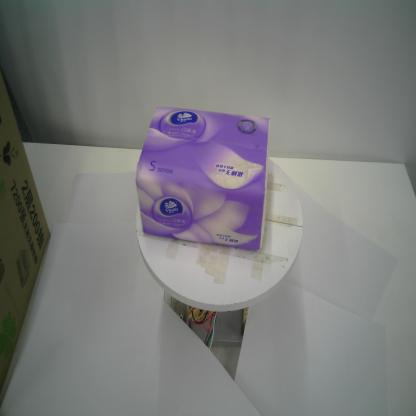Tissue: (134, 103, 272, 254)
